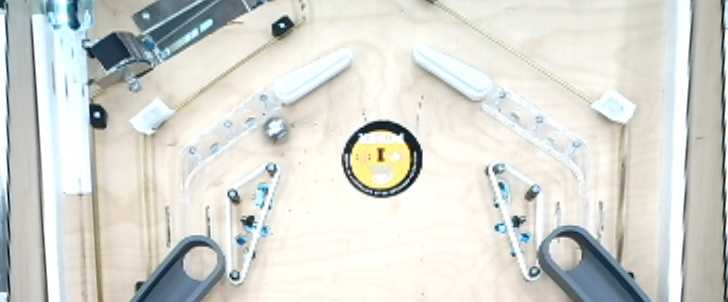ball: (259, 112, 294, 147)
flipper-left: (407, 41, 499, 107)
flipper-right: (268, 36, 357, 112)
